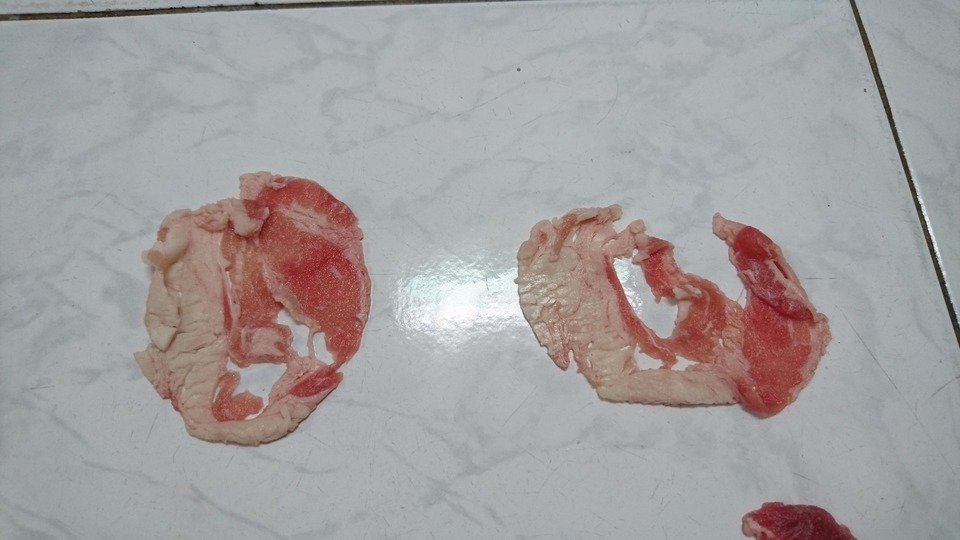restructured meat: (510, 202, 831, 429), (140, 166, 372, 450)
